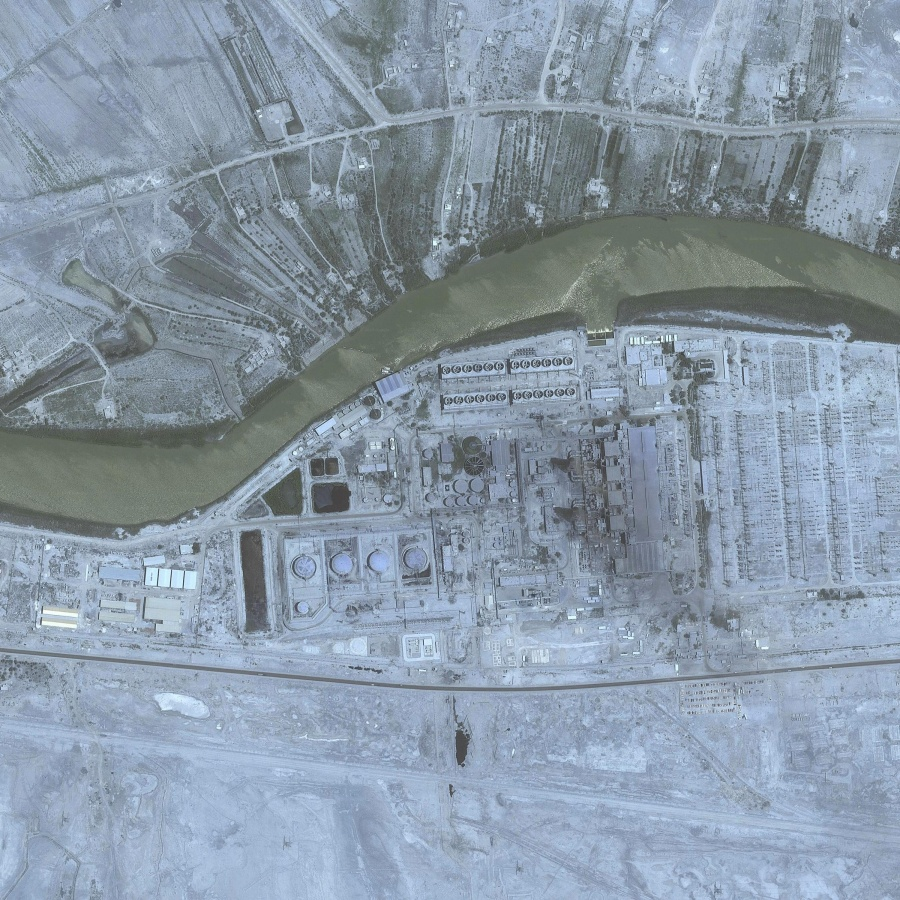PowerPlant: (217, 350, 717, 649)
